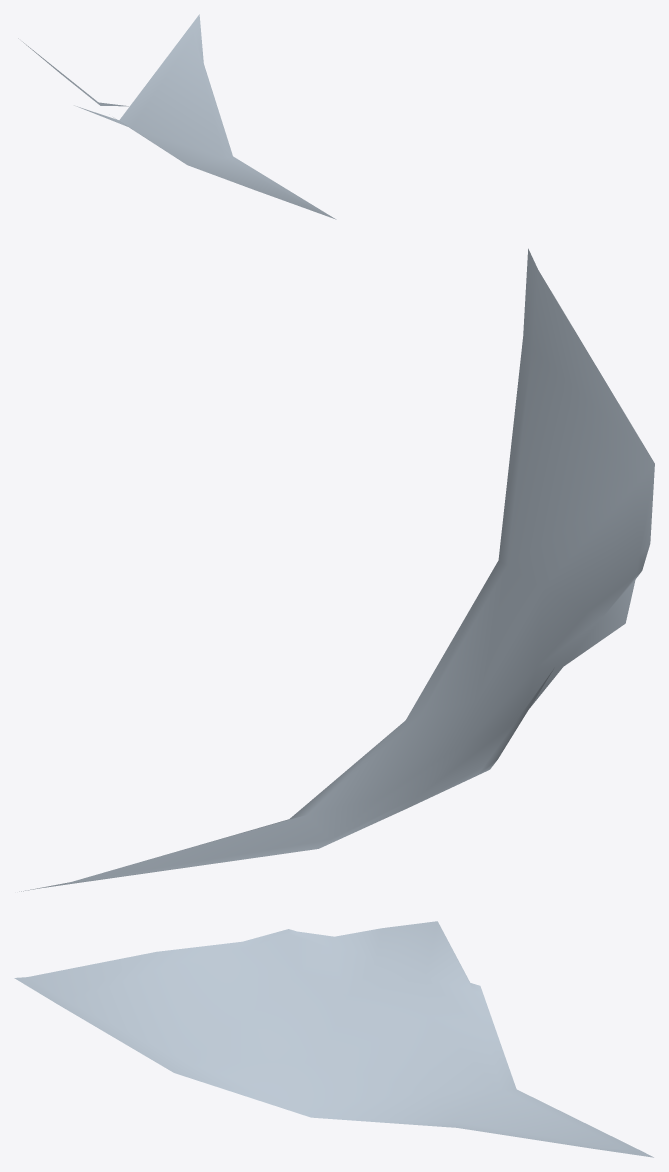
The model's file is transverse-acetabular-ligament-l.glb.
3 renders of one model, top to bottom at view 1: azimuth 30°, elevation 25°; view 2: azimuth 150°, elevation 25°; view 3: azimuth 270°, elevation 25°, orthographic. The views are drawn at different scales.
Parts seen in each view (by area): view 1: Transverse acetabular ligament.l; view 2: Transverse acetabular ligament.l; view 3: Transverse acetabular ligament.l.
Boxes of the visible parts, left/top/right/bottom form: Transverse acetabular ligament.l: left=18, top=14, right=336, bottom=219; Transverse acetabular ligament.l: left=19, top=248, right=654, bottom=891; Transverse acetabular ligament.l: left=14, top=921, right=653, bottom=1157.
Size of the model in its own units: 0.0178 by 0.0133 by 0.0419.
